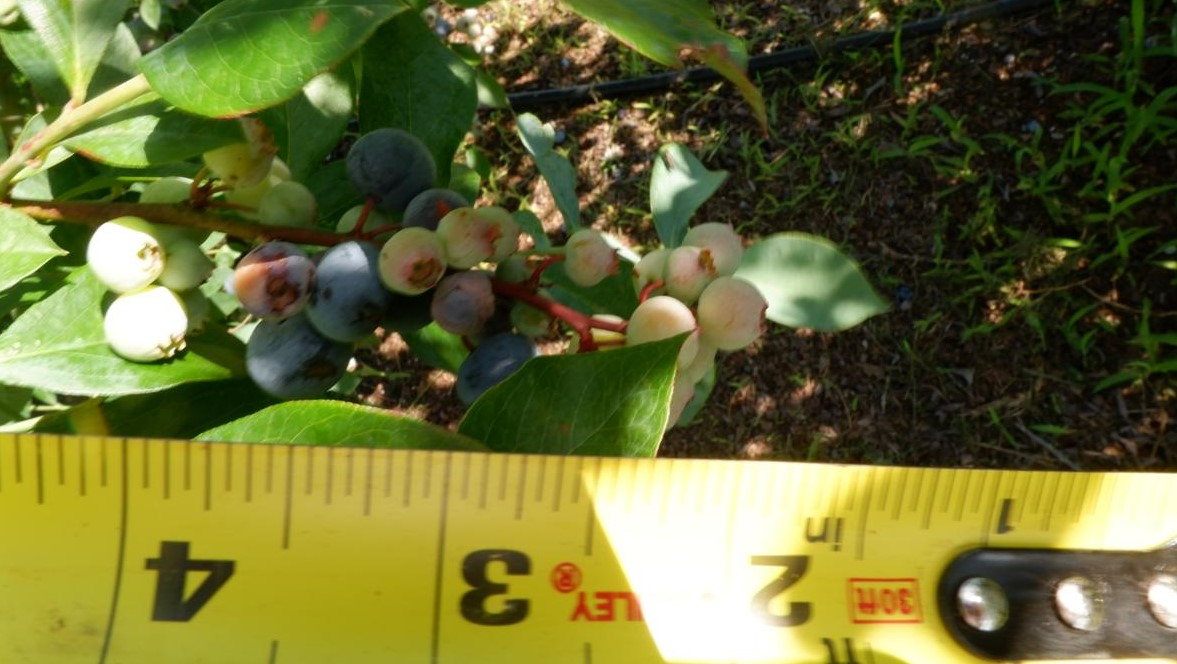Immature: (234, 241, 319, 319), (103, 286, 189, 363), (86, 216, 168, 293), (137, 180, 217, 249), (202, 119, 279, 190), (626, 297, 699, 371), (697, 275, 768, 350), (379, 227, 447, 295), (432, 268, 499, 333), (437, 207, 504, 269), (225, 159, 291, 221), (563, 230, 623, 289), (680, 223, 743, 279), (633, 250, 693, 308), (662, 245, 719, 301), (158, 239, 217, 291), (258, 182, 319, 231), (567, 313, 629, 354), (475, 207, 521, 262), (337, 205, 403, 243), (509, 287, 557, 338), (666, 369, 697, 430), (687, 333, 716, 383), (495, 254, 538, 286)
Mature: (245, 307, 353, 401), (303, 239, 390, 343), (345, 127, 439, 214), (454, 333, 538, 407), (403, 187, 469, 231), (383, 285, 439, 332)
